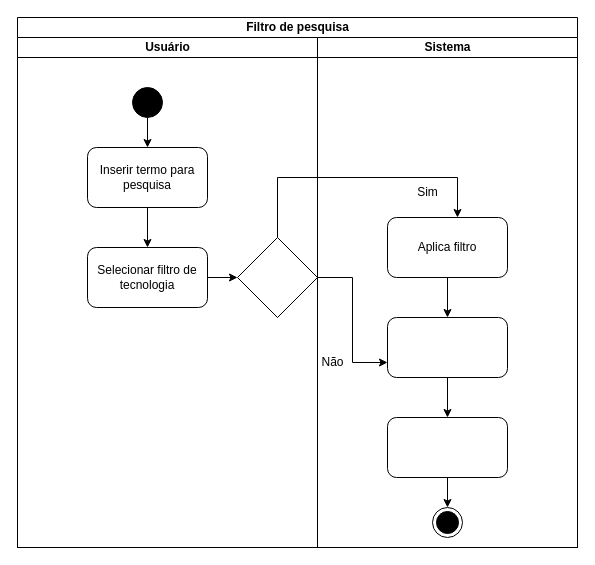
The diagram is 595 pixels wide and 565 high, and some of its shapes have lost their labels. The shapes that lost their labels are listed below. From the top down, each one's centre as x and y in pixels, then its label:
At pixel 277 277: "Possui filtro".
At pixel 447 347: "Busca projetos de acordo com o filtro".
At pixel 447 447: "Exibir Projetos".
